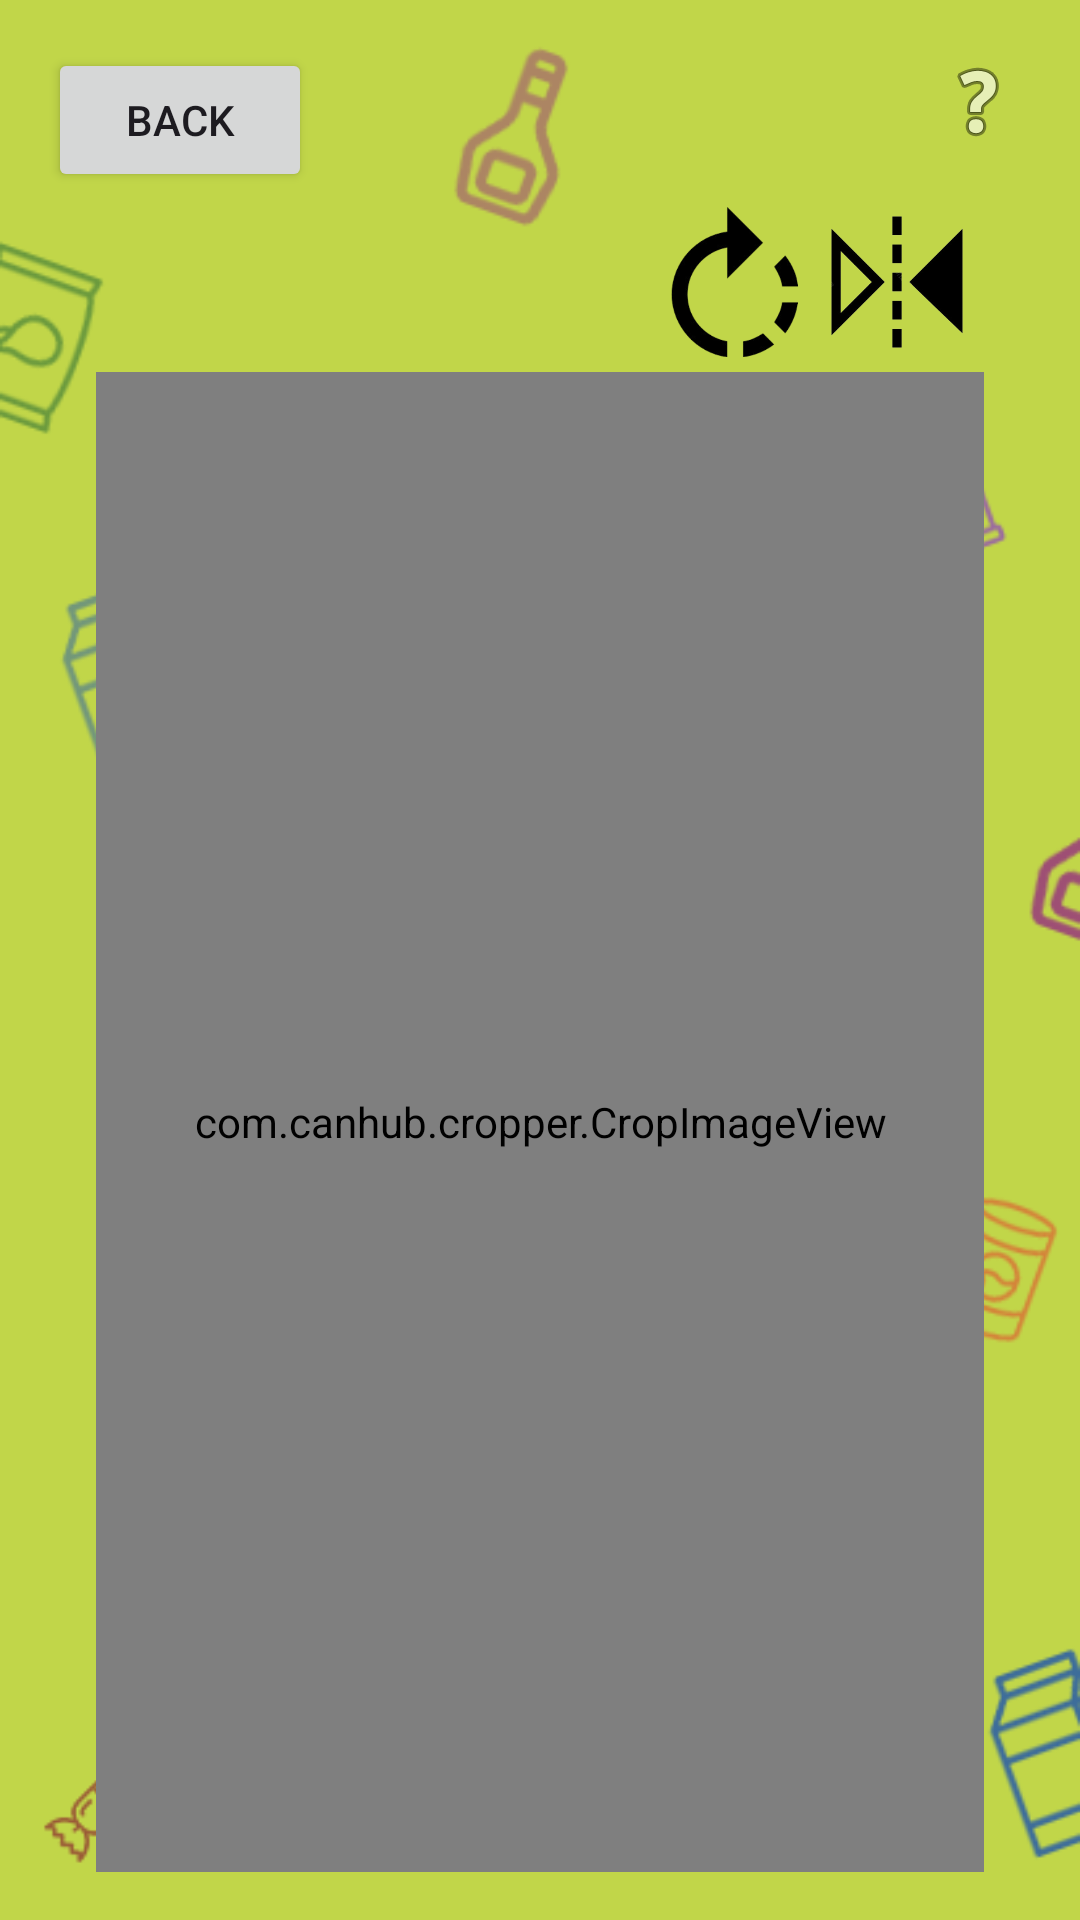

Where icons sit on this 1080px x 1920px app screen, as (x1, y1, x2, y2):
Help: (957, 68, 999, 136)
